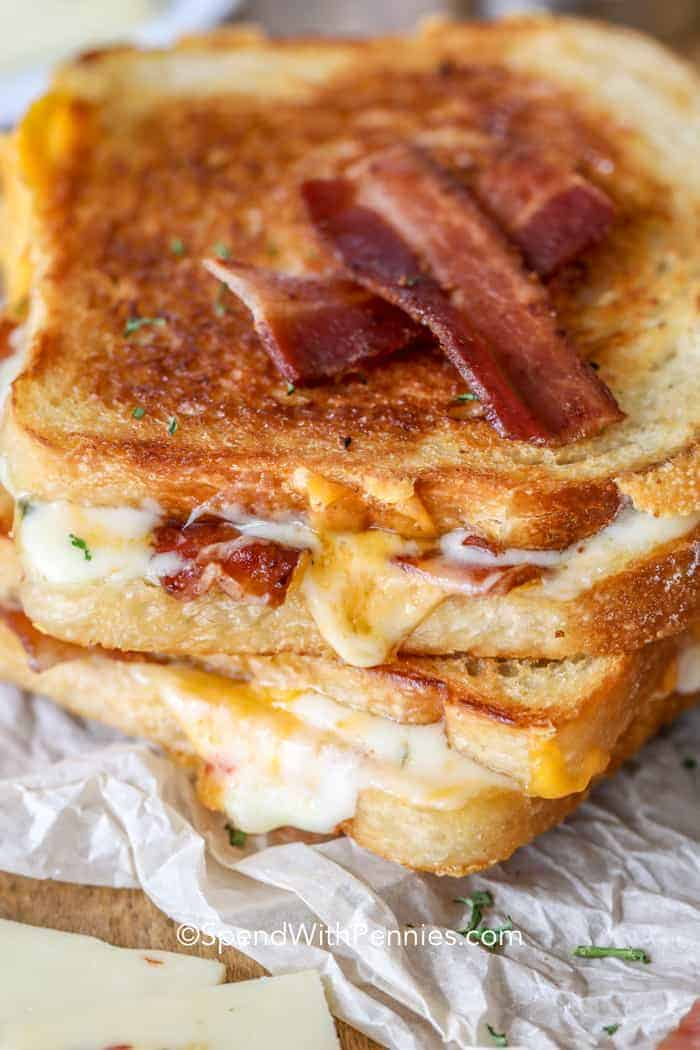cheese: (232, 481, 528, 675), (161, 701, 445, 840)
